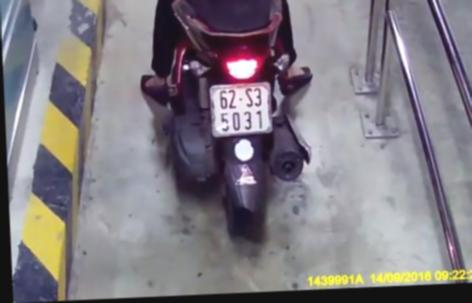License_Plate: (201, 76, 278, 142)
